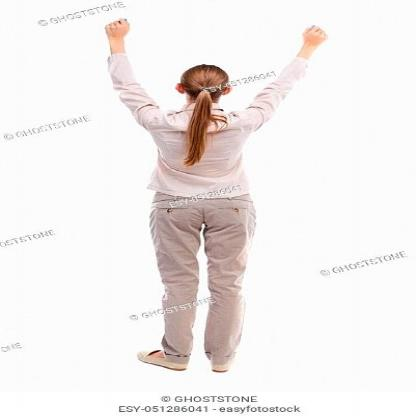fist: (287, 14, 340, 57), (96, 16, 143, 44)
